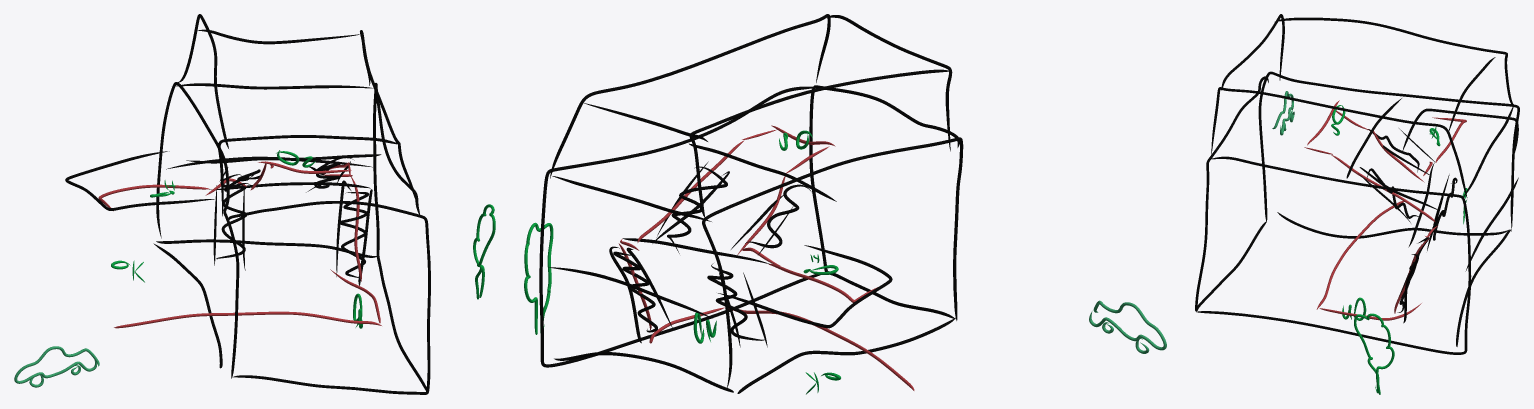
3 views of the same model, side by side, from view 1: azimuth 30°, elevation 25°; view 2: azimuth 150°, elevation 25°; view 3: azimuth 270°, elevation 25° (orthographic). The views are drawn at different scales.
Visible parts, largest first — view 1: s.0020, s.0018, s.0021, s.0060, s.0019, s.0040, s.0014, s.0041, s.0043, s.0023, s.0039, s.0022 (+7 smaller); view 2: s.0021, s.0018, s.0020, s.0039, s.0041, s.0019, s.0043, s.0017, s.0040, s.0014, s.0023, s.0028 (+6 smaller); view 3: s.0021, s.0018, s.0020, s.0039, s.0041, s.0017, s.0043, s.0019, s.0040, s.0060, s.0023, s.0064 (+2 smaller).
Part boxes in pixels (x1,y1,x2,y2): s.0020: [228, 201, 430, 394]; s.0018: [156, 82, 239, 378]; s.0021: [373, 83, 426, 390]; s.0060: [114, 311, 381, 328]; s.0019: [65, 151, 214, 210]; s.0040: [218, 135, 397, 216]; s.0014: [14, 346, 99, 383]; s.0041: [178, 14, 228, 148]; s.0043: [473, 204, 495, 299]; s.0023: [156, 239, 377, 257]; s.0039: [360, 30, 419, 211]; s.0022: [172, 83, 372, 89]; s.0021: [539, 86, 820, 367]; s.0018: [702, 137, 963, 389]; s.0020: [809, 85, 959, 318]; s.0039: [550, 14, 830, 178]; s.0041: [689, 69, 948, 217]; s.0019: [718, 245, 892, 328]; s.0043: [524, 222, 553, 334]; s.0017: [737, 317, 956, 393]; s.0040: [827, 15, 952, 151]; s.0014: [1089, 300, 1166, 350]; s.0023: [554, 352, 733, 392]; s.0028: [613, 251, 657, 332]; s.0021: [1196, 156, 1471, 354]; s.0018: [1258, 71, 1519, 231]; s.0020: [1195, 76, 1268, 311]; s.0039: [1211, 87, 1467, 197]; s.0041: [1279, 17, 1514, 105]; s.0017: [1277, 212, 1510, 238]; s.0043: [1354, 313, 1394, 394]; s.0019: [1402, 108, 1518, 158]; s.0040: [1221, 14, 1284, 90]; s.0060: [1316, 201, 1404, 309]; s.0023: [1456, 230, 1510, 346]; s.0064: [1331, 155, 1435, 221].
Size of the model in its own units: 106 by 64.36 by 55.99.
